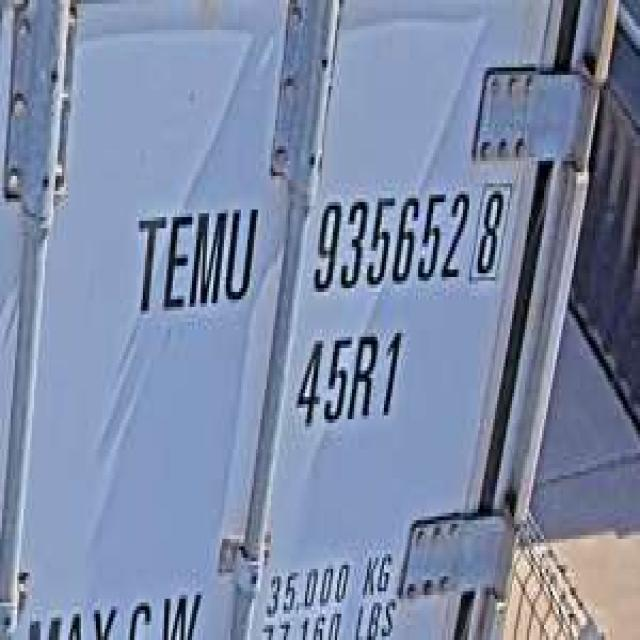dv: (469, 172, 512, 285)
owner: (128, 187, 260, 326)
serial: (308, 176, 470, 303)
size: (290, 318, 408, 438)
